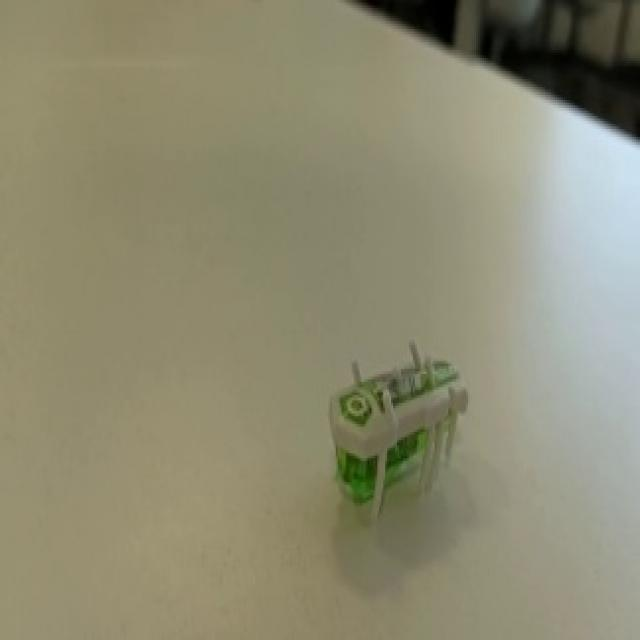4_NanoBug_Blanco: (292, 333, 520, 537)
